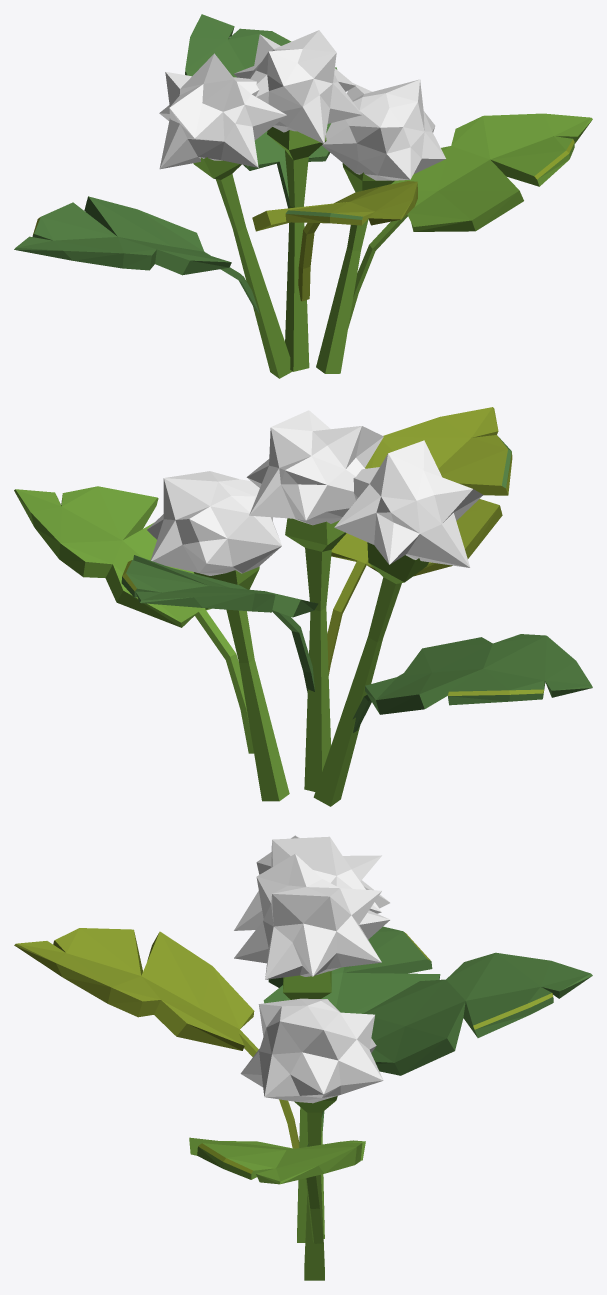
File: EA_M_Env_Flower_01b.fbx
The picture shows the model from 3 angles, top to bottom: view 1: azimuth 30°, elevation 25°; view 2: azimuth 150°, elevation 25°; view 3: azimuth 270°, elevation 25°; orthographic projection. The views are drawn at different scales.
Parts seen in each view (by area): view 1: EA_M_Env_Flower_01b_LOD0; view 2: EA_M_Env_Flower_01b_LOD0; view 3: EA_M_Env_Flower_01b_LOD0.
Boxes of the visible parts, x1,y1,x2,y2 form: EA_M_Env_Flower_01b_LOD0: [14, 14, 592, 378]; EA_M_Env_Flower_01b_LOD0: [14, 407, 592, 806]; EA_M_Env_Flower_01b_LOD0: [14, 835, 592, 1280].
Size of what is drawn, in the model's own units: 1.15 by 0.6898 by 0.9396.
